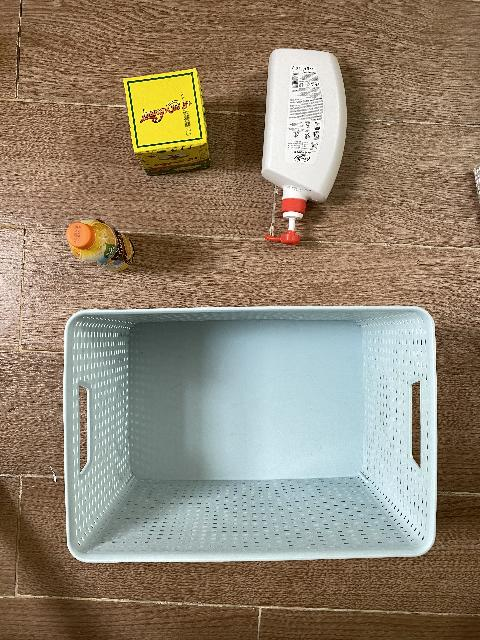cart: (61, 306, 438, 566)
life-buoy: (262, 49, 347, 245)
luong_kho: (123, 68, 211, 177)
teppy_orange_juice: (66, 219, 135, 272)
